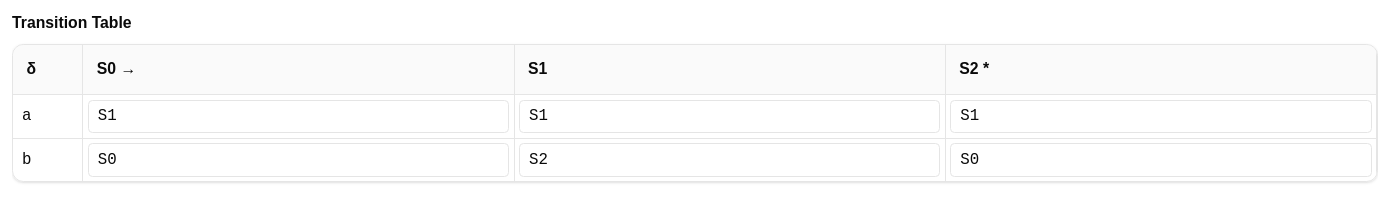
Test case: FATransitionTableEditor — state controls › drops the local draft again on blur
The image size is (1378, 200).
Replace the text in the field named "δ(S0, a)" with "S2": [298, 116] box [88,100,509,133]
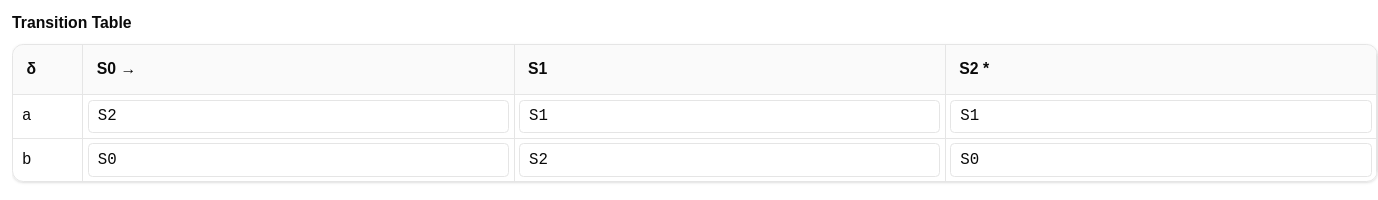
Leave the field named "δ(S0, a)", box [88,100,509,133]
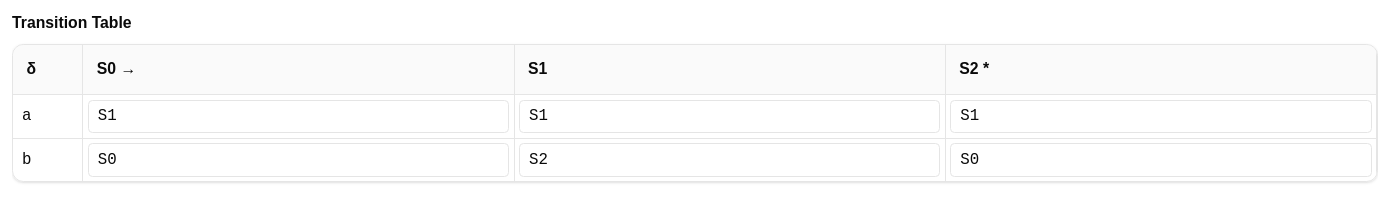
Result: the field named "δ(S0, a)" holds "S1" at [88,100,509,133]
